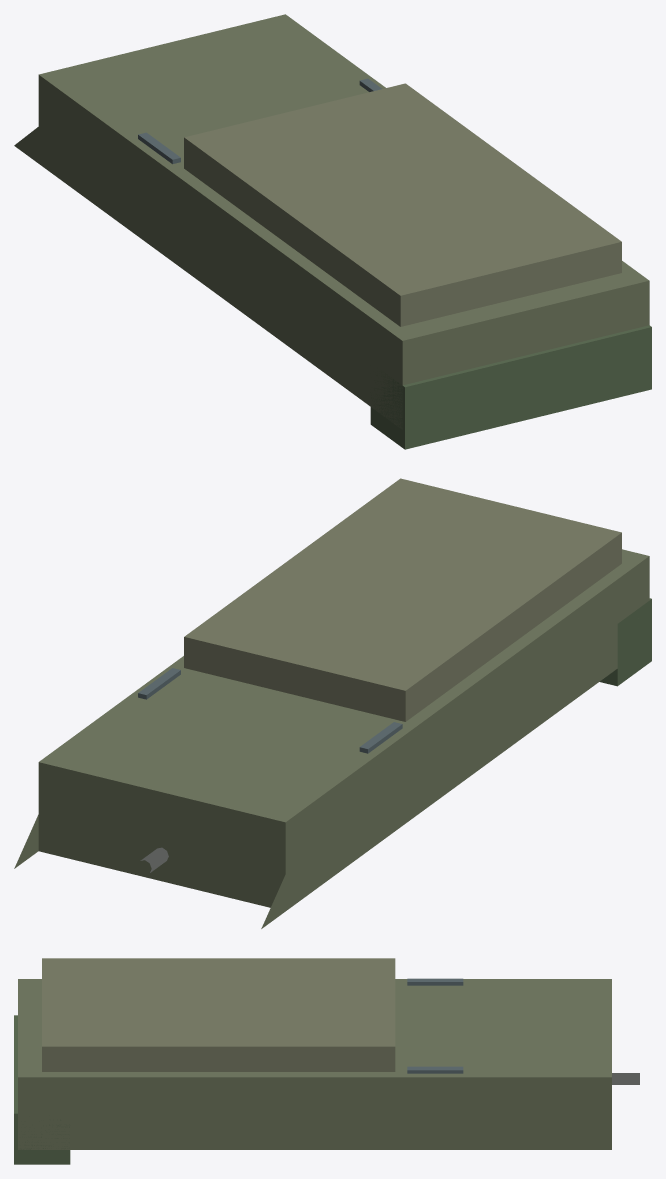
The model's file is v_btr80.glb.
3 renders of one model, top to bottom at view 1: azimuth 30°, elevation 25°; view 2: azimuth 150°, elevation 25°; view 3: azimuth 270°, elevation 25°, orthographic. The views are drawn at different scales.
Parts seen in each view (by area): view 1: body; view 2: body; view 3: body.
Boxes of the visible parts, x1=… form: body: x1=14, y1=14, x2=651, y2=449; body: x1=14, y1=478, x2=651, y2=928; body: x1=14, y1=958, x2=639, y2=1164.
Size of the model in its own units: 2.9 by 1.55 by 7.95.
